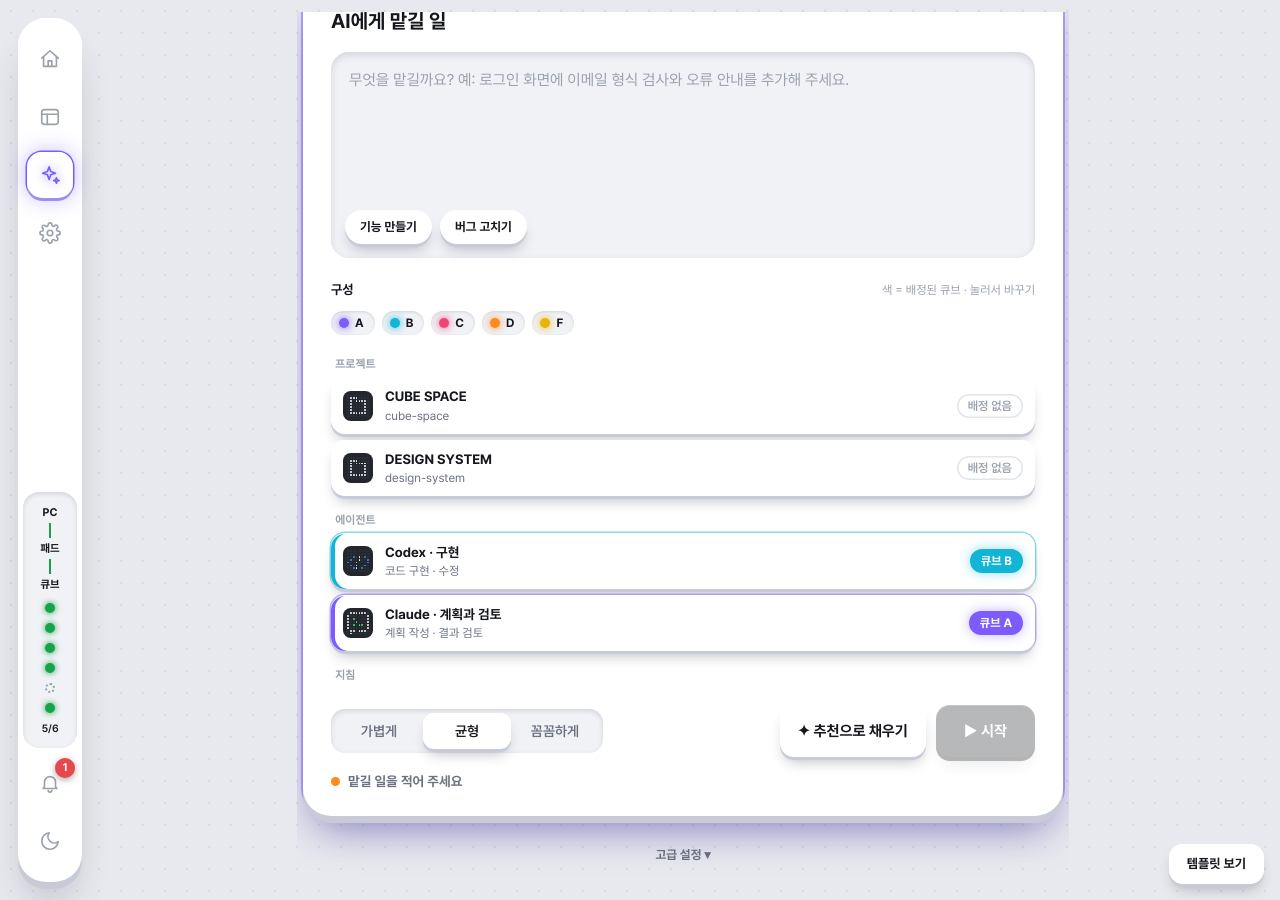
Test: AI 고급 설정: 터치로 다음 구성, 목록에 추가, 추천 배정 탭
(page scrolled)
Click the button "고급 설정 ▾" at (683, 856), box [637,838,729,874]
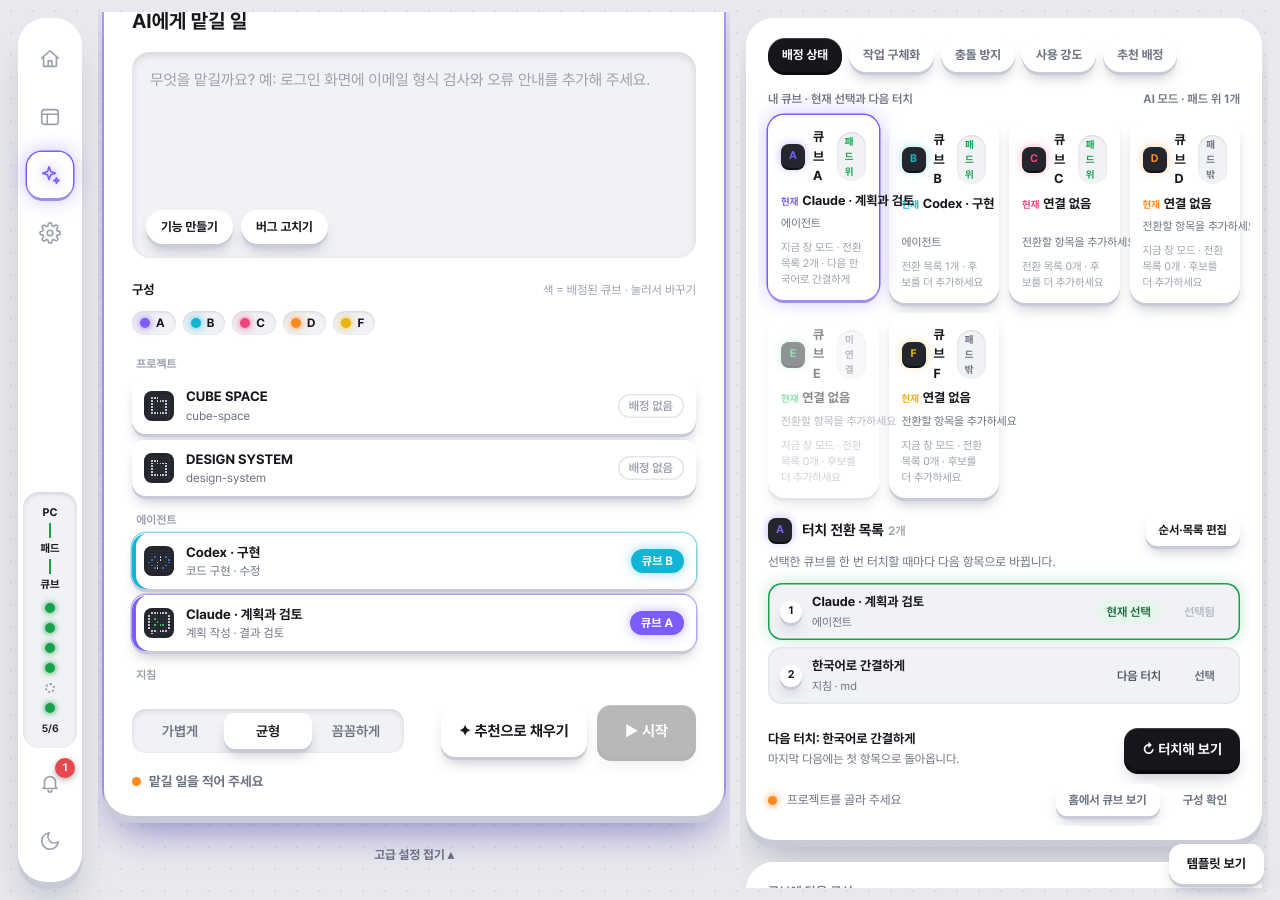
Click the button "↻ 터치해 보기" at (1182, 749), box [1124,728,1240,770]
(page scrolled)
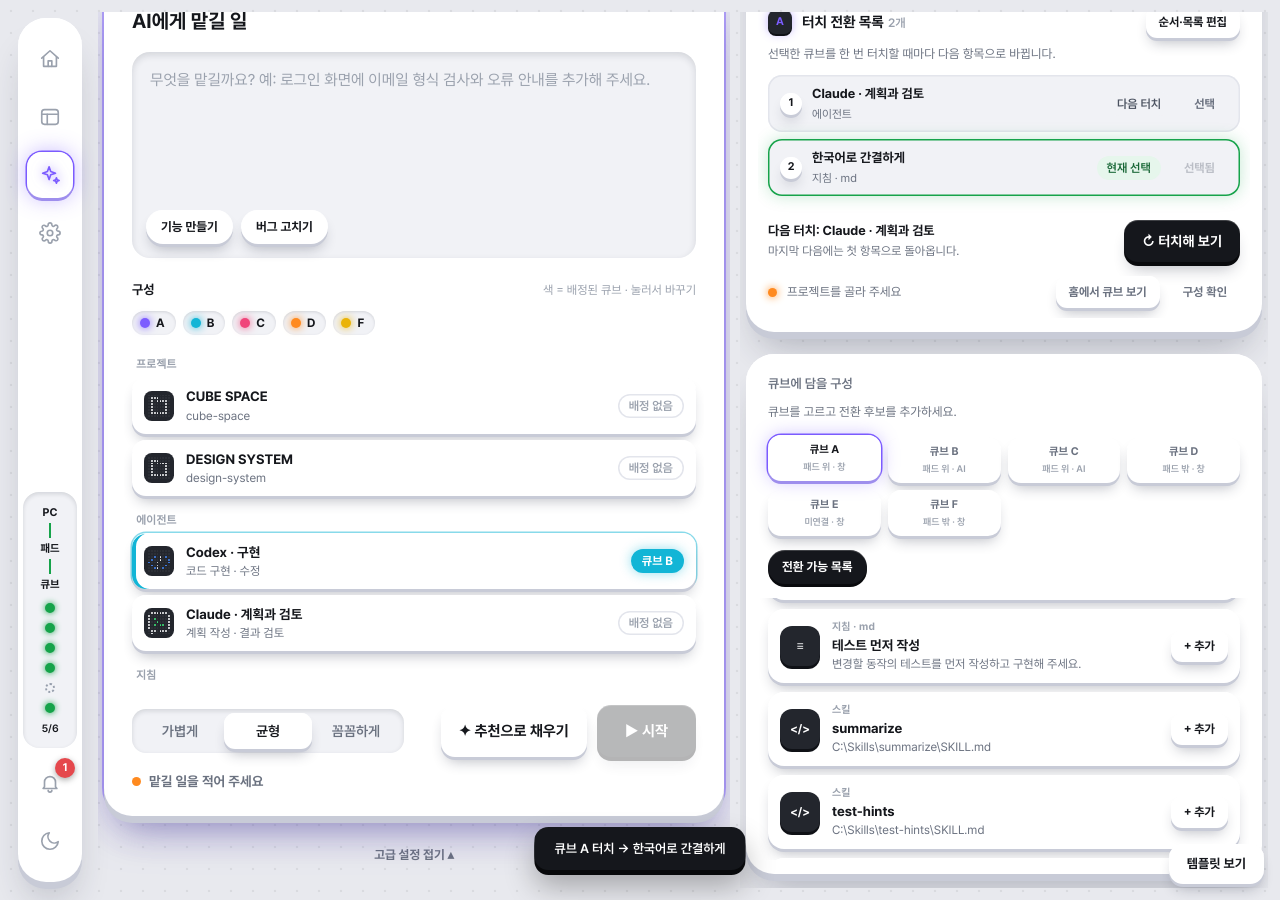
Expected: the button with aria-label "한국어로 간결하게 선택됨" is shown, [1171,152,1228,184]
Click the button with aria-label "summarize 추가" at (1199, 729), box [1171,713,1228,745]
(page scrolled)
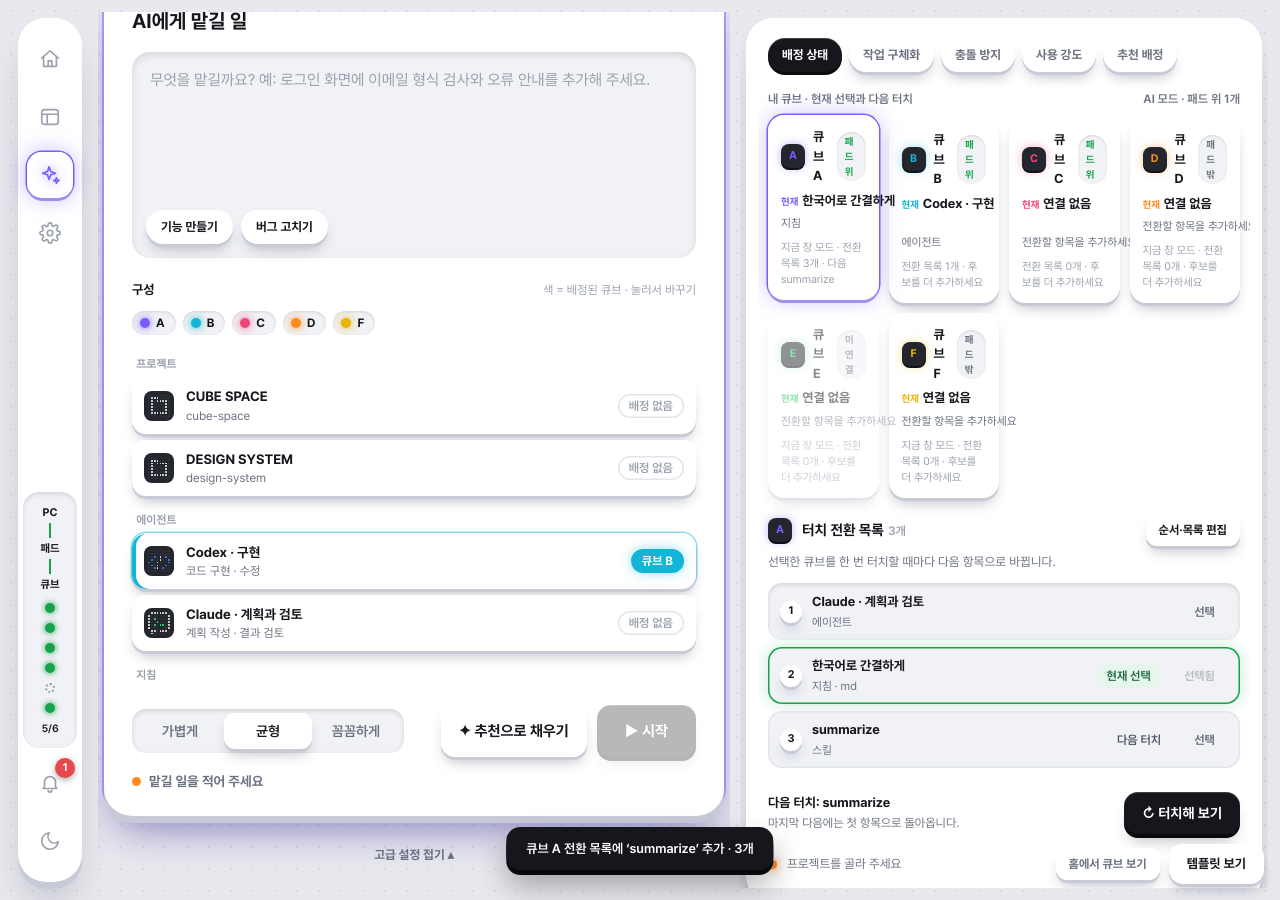
Click the button "추천 배정" at (1140, 55), box [1103,38,1177,72]
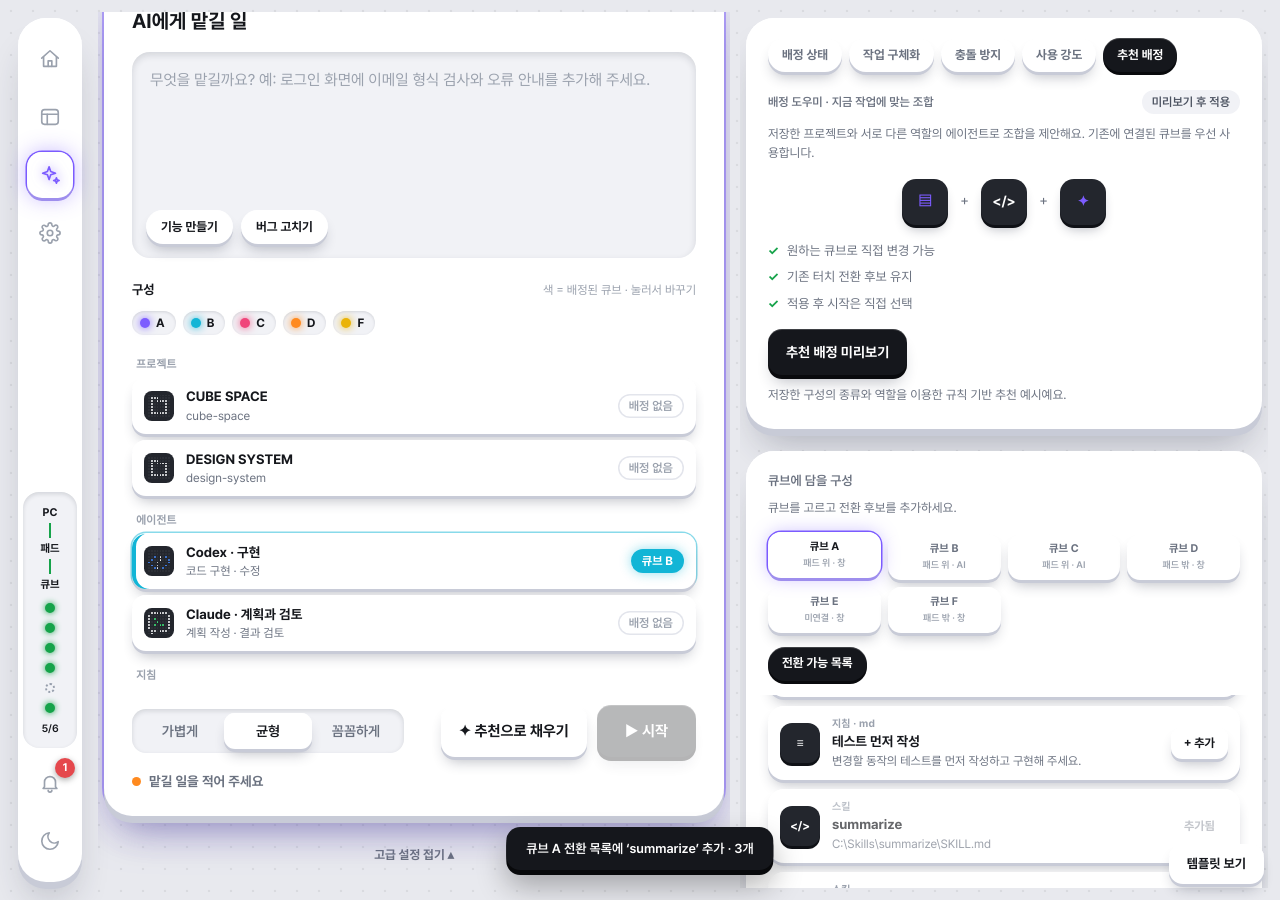
Expected: the button "추천 배정 미리보기" is shown, [768,329,907,375]
